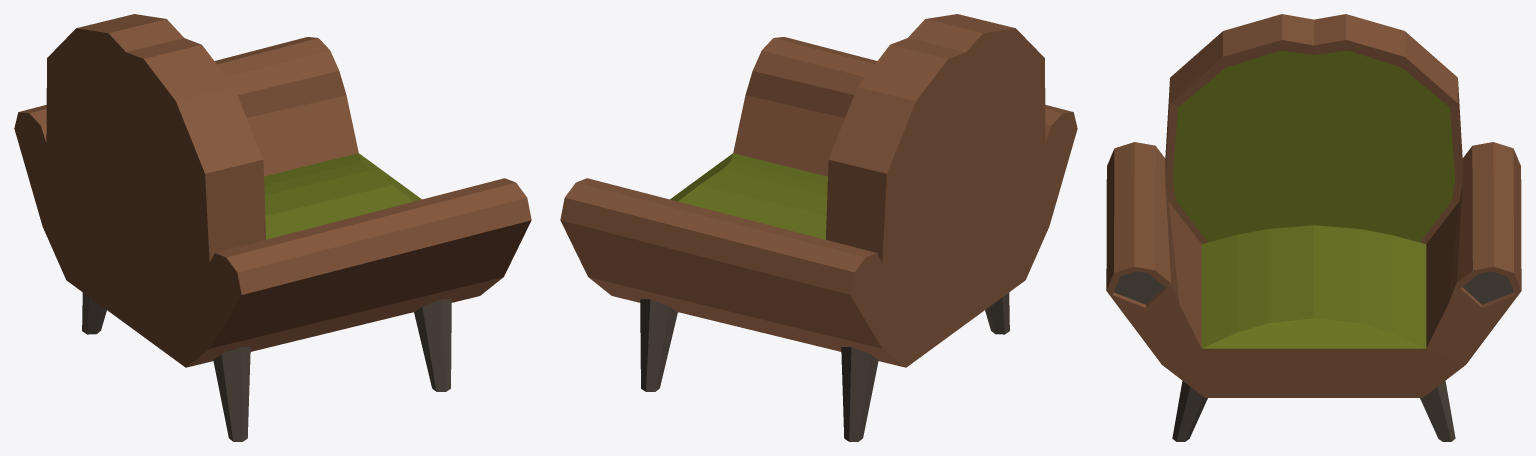
The model's file is armchair.fbx.
3 renders of one model, left to right at view 1: azimuth 30°, elevation 25°; view 2: azimuth 150°, elevation 25°; view 3: azimuth 270°, elevation 25°, orthographic. The views are drawn at different scales.
Visible parts, largest first — view 1: Cube; view 2: Cube; view 3: Cube.
Part boxes in pixels (x1=…): Cube: x1=14, y1=14, x2=531, y2=441; Cube: x1=560, y1=14, x2=1077, y2=441; Cube: x1=1106, y1=14, x2=1521, y2=441.
Size of the model in its own units: 2 by 2.26 by 2.69.
